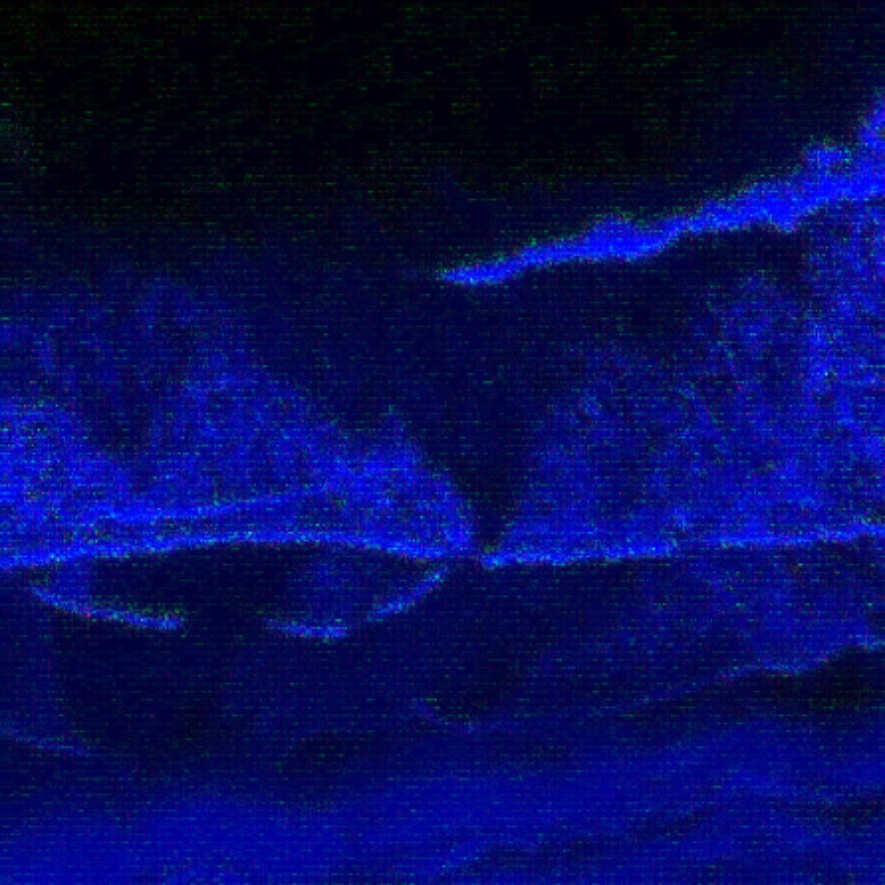rip_current: (257, 185, 611, 591)
